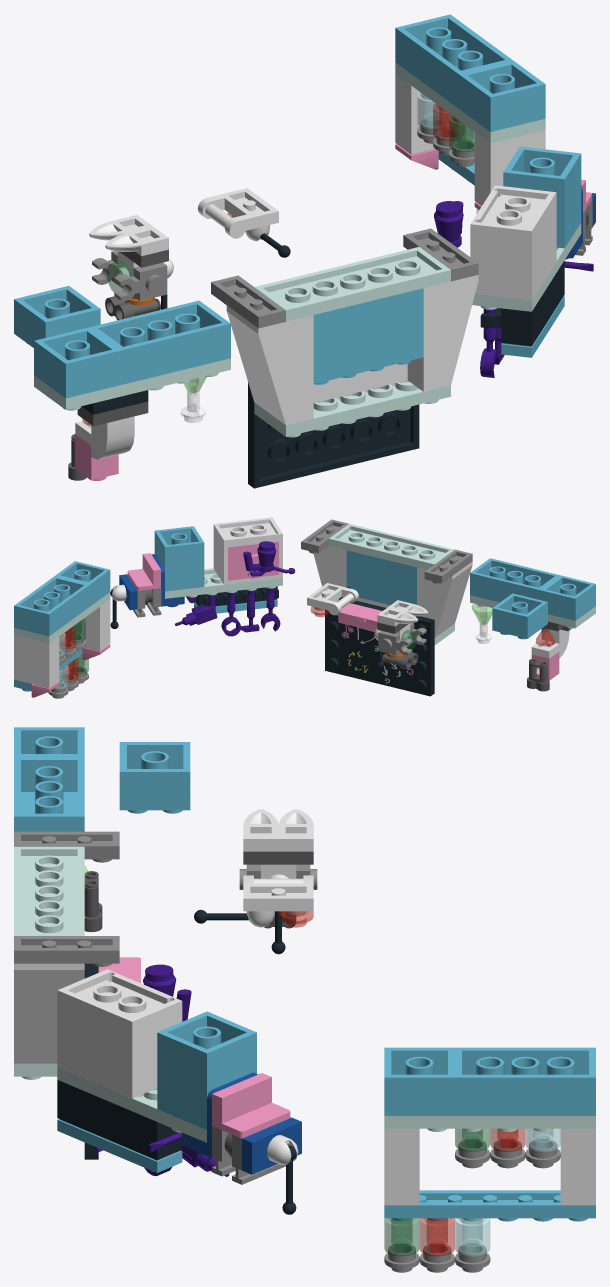
3 renders of one model, top to bottom at view 1: azimuth 30°, elevation 25°; view 2: azimuth 150°, elevation 25°; view 3: azimuth 270°, elevation 25°, orthographic. The views are drawn at different scales.
Bounding box in the file's own units: 470 × 140 × 330.
